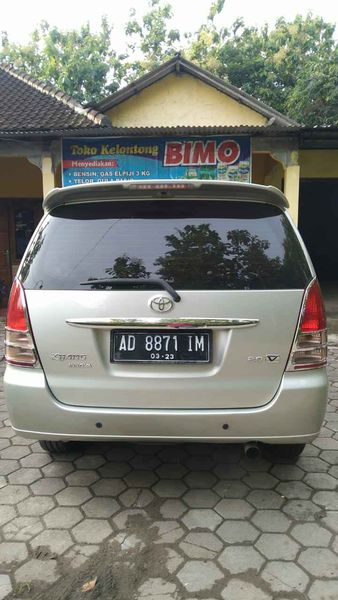plate: (113, 325, 217, 367)
